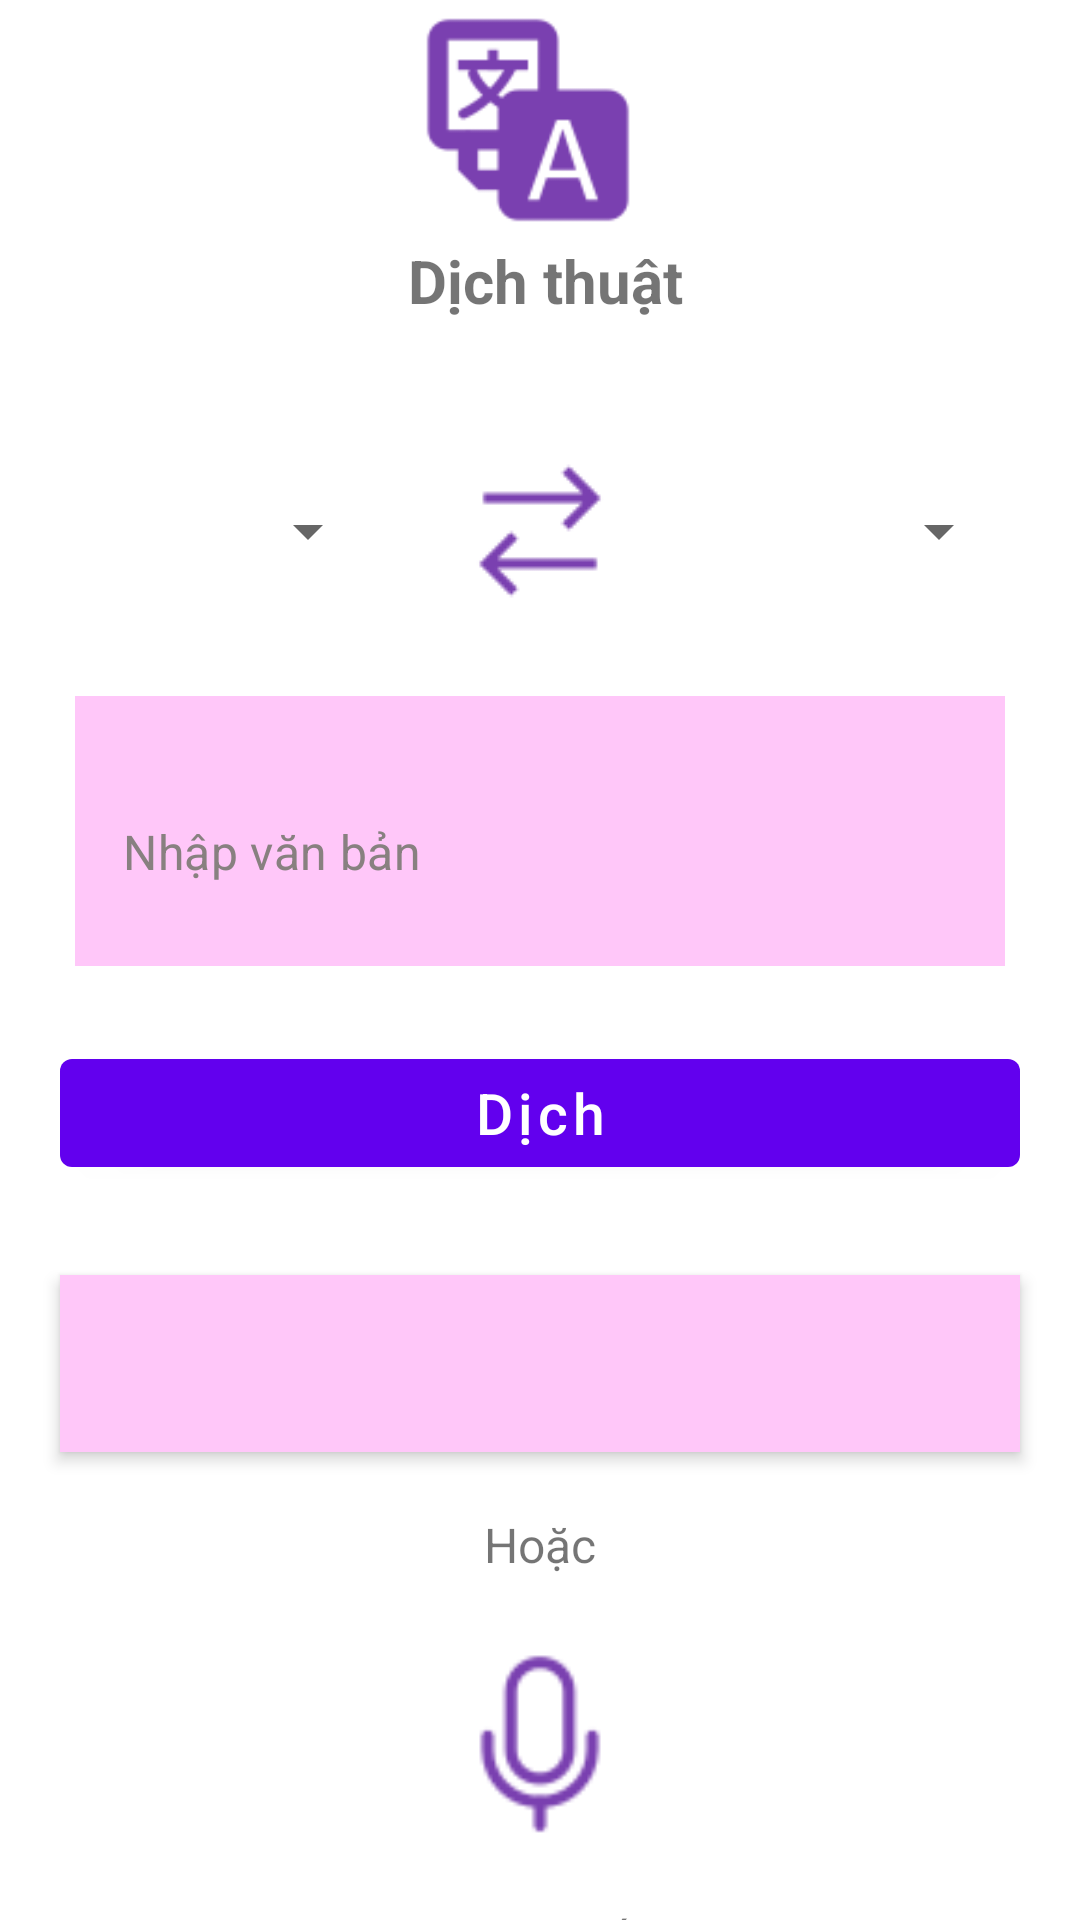

Locate icon controls on the screen. Image size 1080x1920, boxes as (x1, y1, x2, y2).
data transfer: (479, 466, 601, 596)
microphone: (479, 1655, 601, 1833)
